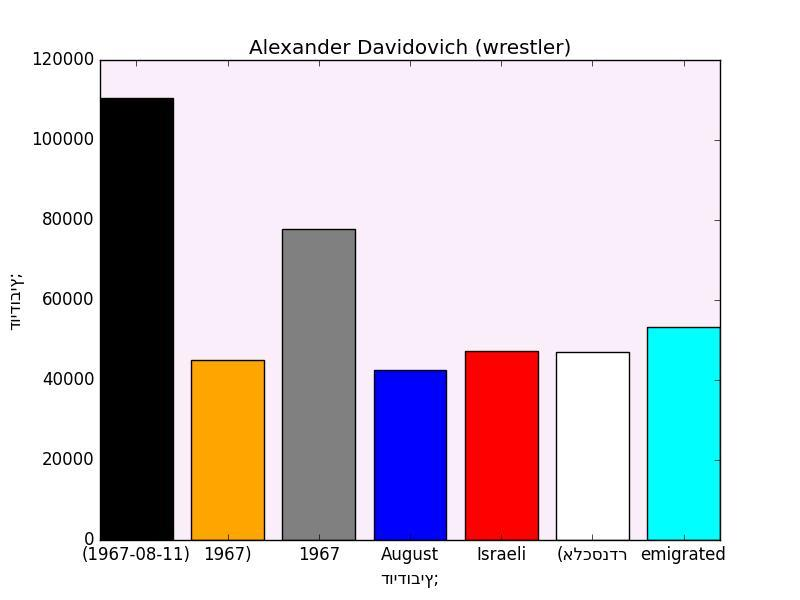axis: (8, 52, 94, 548)
rectangle: (100, 98, 173, 540), (282, 229, 356, 540), (647, 327, 720, 540), (464, 351, 538, 540), (556, 352, 629, 540), (191, 360, 264, 540), (373, 370, 446, 540)
